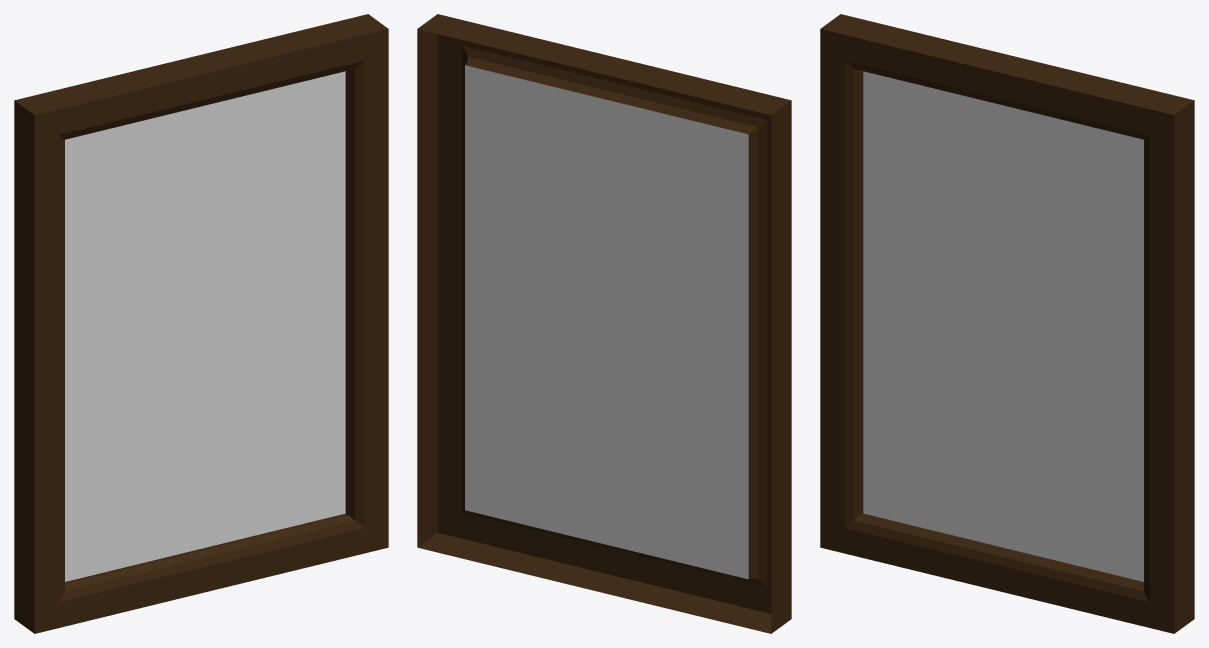
File: 3D_Paint_v1.fbx
The picture shows the model from 3 angles, left to right: view 1: azimuth 30°, elevation 25°; view 2: azimuth 150°, elevation 25°; view 3: azimuth 330°, elevation 25°; orthographic projection.
Parts seen in each view (by area): view 1: Cube; view 2: Cube; view 3: Cube.
Part boxes in pixels (left/top/right/bottom): Cube: left=14, top=14, right=388, bottom=633; Cube: left=417, top=14, right=791, bottom=633; Cube: left=820, top=14, right=1194, bottom=633.
Size of the model in its own units: 105 by 147 by 10.53.
